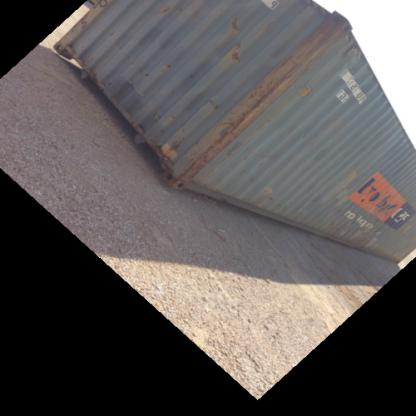Damage: (294, 13, 338, 86), (197, 129, 243, 162), (244, 76, 286, 110), (228, 37, 254, 70), (156, 127, 182, 158), (346, 226, 383, 245), (262, 189, 290, 213), (372, 192, 392, 218), (227, 10, 248, 32), (204, 86, 222, 111), (162, 54, 178, 78)
